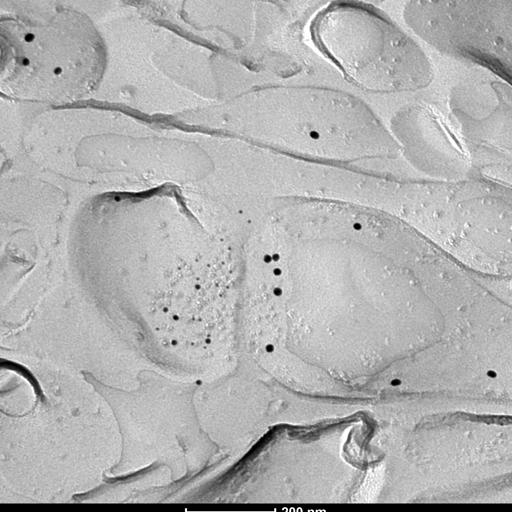1: (203, 338, 211, 346), (170, 339, 178, 347), (171, 313, 179, 321), (161, 306, 169, 314), (194, 283, 202, 291)
6 nm Particle: (202, 345, 208, 351), (189, 341, 195, 347), (205, 333, 211, 339), (155, 326, 161, 332), (189, 317, 195, 323), (197, 317, 203, 323), (217, 293, 223, 299), (224, 284, 230, 290), (214, 283, 220, 289), (194, 277, 200, 283), (176, 266, 182, 272), (192, 258, 198, 264), (205, 261, 211, 267), (228, 269, 234, 275), (220, 260, 226, 266), (226, 247, 232, 253), (218, 237, 224, 243)
